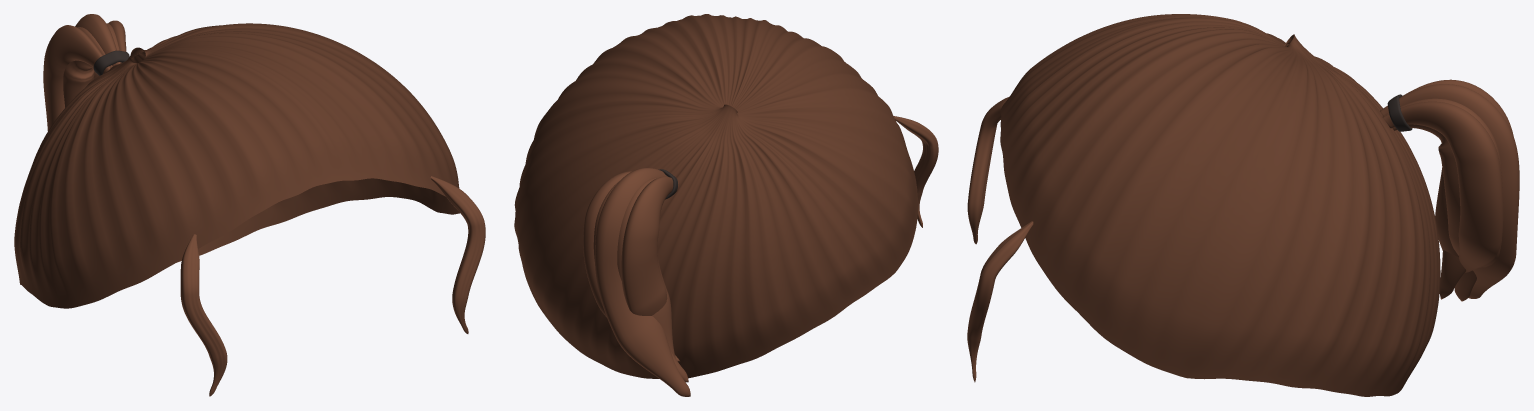
Rendered from ponytail-headband-default.glb.
The picture shows the model from 3 angles, left to right: view 1: azimuth 30°, elevation 25°; view 2: azimuth 150°, elevation 25°; view 3: azimuth 270°, elevation 25°; orthographic projection. The views are drawn at different scales.
Parts seen in each view (by area): view 1: Hair / swept roots220, Hair / rounded tail220 0, Hair / adjustable front216 -1, Hair / adjustable front216 1, Hair / rounded tail220 1, Hair / rounded tail220 2, Hair / tie220; view 2: Hair / swept roots220, Hair / rounded tail220 2, Hair / rounded tail220 0, Hair / rounded tail220 4, Hair / adjustable front216 -1, Hair / rounded tail220 1; view 3: Hair / swept roots220, Hair / rounded tail220 4, Hair / rounded tail220 2, Hair / adjustable front216 1, Hair / rounded tail220 3, Hair / adjustable front216 -1, Hair / rounded tail220 0, Hair / rounded tail220 1, Hair / tie220.
Boxes of the visible parts, <box> form: Hair / swept roots220: <box>14,23,459,308</box>; Hair / rounded tail220 0: <box>43,25,110,130</box>; Hair / adjustable front216 -1: <box>180,234,227,396</box>; Hair / adjustable front216 1: <box>430,176,485,333</box>; Hair / rounded tail220 1: <box>63,27,112,107</box>; Hair / rounded tail220 2: <box>75,14,120,78</box>; Hair / tie220: <box>93,50,129,75</box>; Hair / swept roots220: <box>514,14,917,378</box>; Hair / rounded tail220 2: <box>595,168,690,396</box>; Hair / rounded tail220 0: <box>621,176,679,315</box>; Hair / rounded tail220 4: <box>583,171,680,361</box>; Hair / adjustable front216 -1: <box>893,116,938,227</box>; Hair / rounded tail220 1: <box>617,177,675,357</box>; Hair / swept roots220: <box>1000,14,1440,396</box>; Hair / rounded tail220 4: <box>1383,101,1503,272</box>; Hair / rounded tail220 2: <box>1380,84,1519,298</box>; Hair / adjustable front216 1: <box>967,221,1033,382</box>; Hair / rounded tail220 3: <box>1382,98,1502,267</box>; Hair / adjustable front216 -1: <box>967,96,1009,244</box>; Hair / rounded tail220 0: <box>1402,79,1513,299</box>; Hair / rounded tail220 1: <box>1435,168,1476,301</box>; Hair / tie220: <box>1387,94,1412,131</box>.
Bounding box in the file's own units: 0.7726 × 0.5798 × 0.86.
